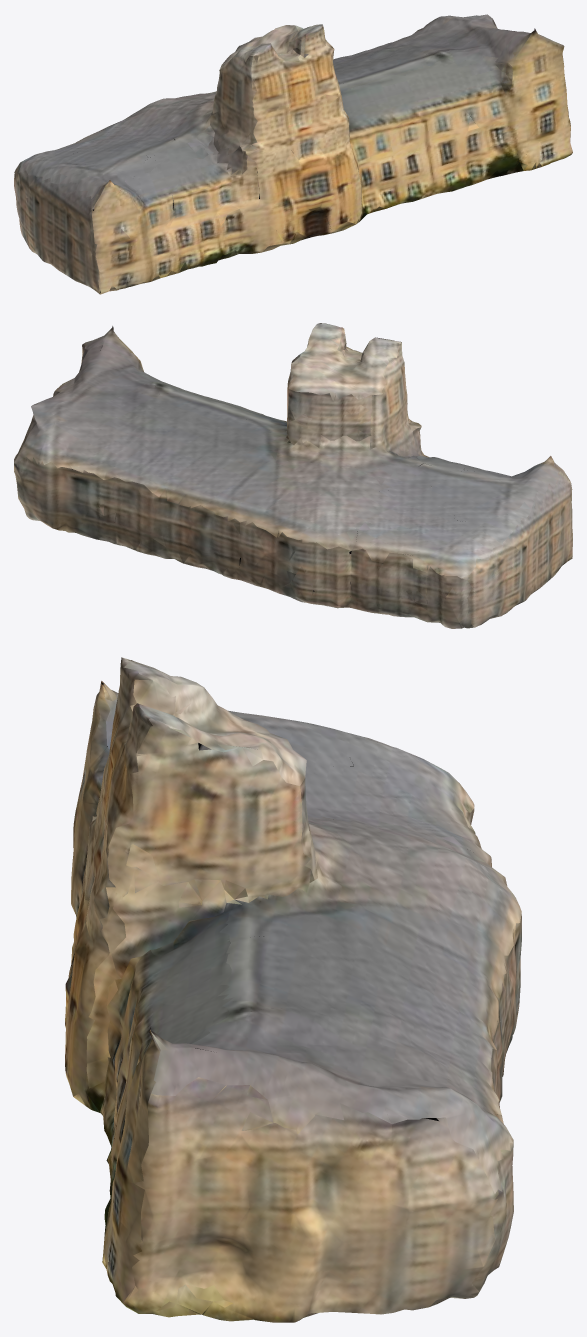
File: burruss_flooded.glb
3 renders of one model, top to bottom at view 1: azimuth 30°, elevation 25°; view 2: azimuth 150°, elevation 25°; view 3: azimuth 270°, elevation 25°, orthographic. The views are drawn at different scales.
Parts seen in each view (by area): view 1: geometry_0; view 2: geometry_0; view 3: geometry_0.
Part boxes in pixels (left/top/right/bottom): geometry_0: left=14, top=14, right=572, bottom=294; geometry_0: left=14, top=323, right=572, bottom=628; geometry_0: left=65, top=657, right=521, bottom=1322.
Bounding box in the file's own units: 102 × 40.51 × 41.66.
Materials: 1 (1 with a texture image).
